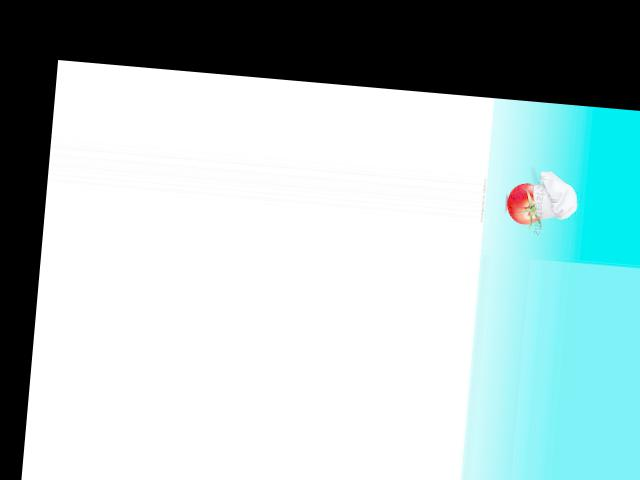tomato: (506, 181, 543, 224)
